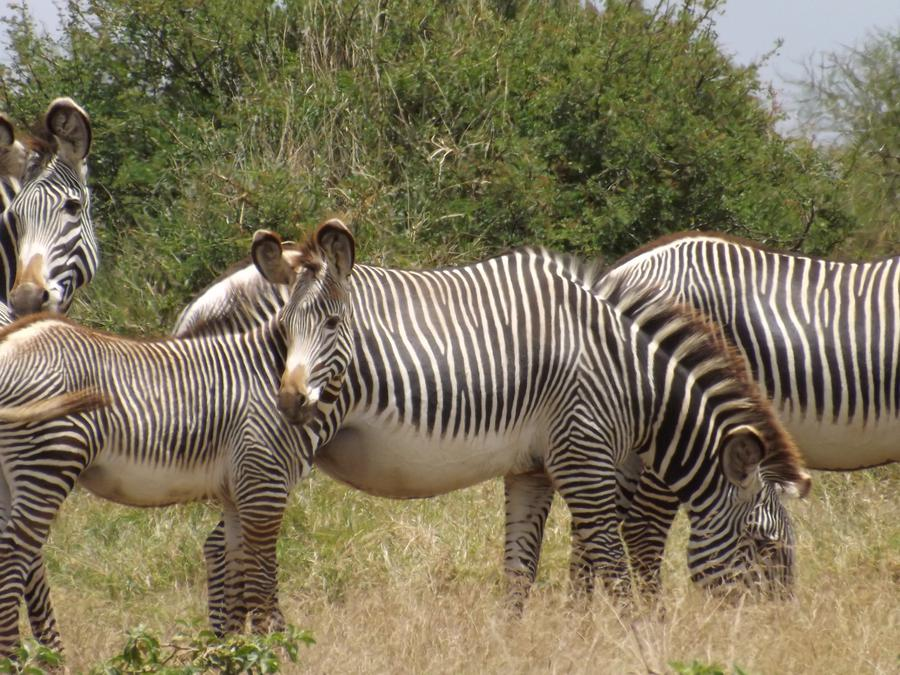zebra_grevys: (362, 252, 620, 486), (4, 301, 293, 497)
